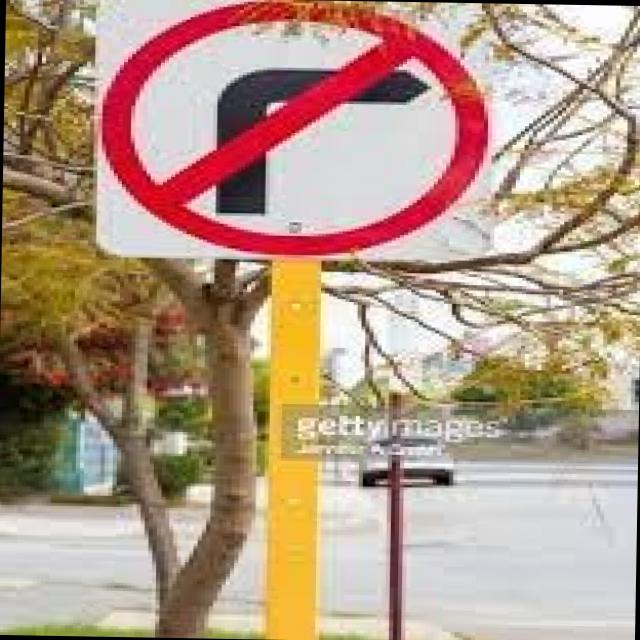do_not_turn_right: (99, 0, 485, 259)
